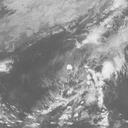cyclone: (53, 61, 104, 111)
